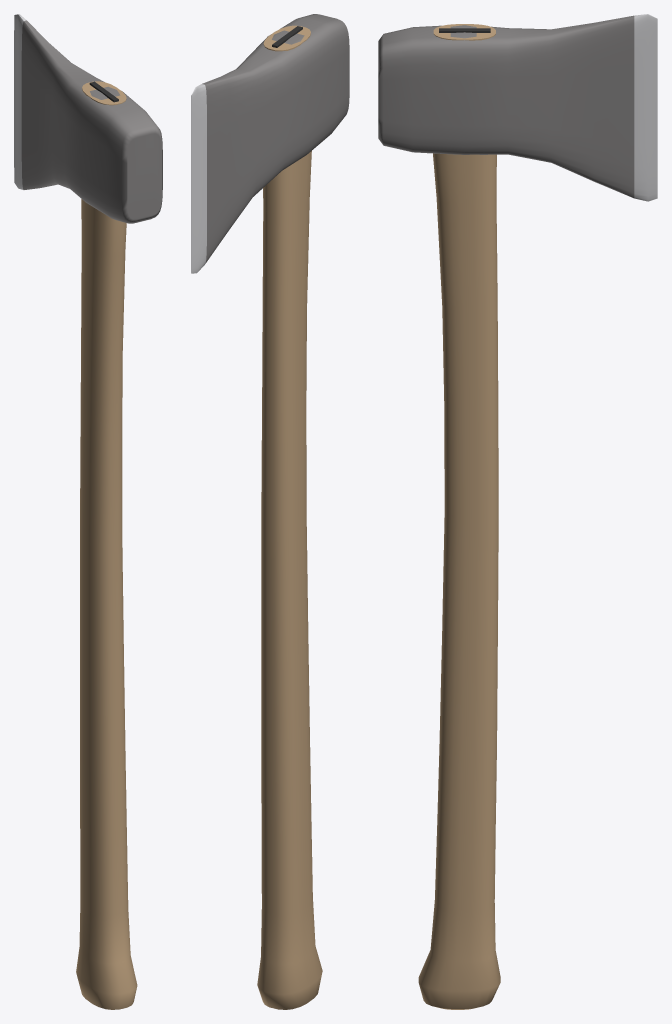
Rendered from axe.glb.
The picture shows the model from 3 angles, left to right: view 1: azimuth 30°, elevation 25°; view 2: azimuth 150°, elevation 25°; view 3: azimuth 270°, elevation 25°; orthographic projection. The views are drawn at different scales.
Visible parts, largest first — view 1: Axe; view 2: Axe; view 3: Axe.
Part boxes in pixels (x1,y1,x2,y2): Axe: (14, 14, 162, 1009); Axe: (191, 14, 349, 1009); Axe: (378, 14, 657, 1009).
Size of the model in its own units: 0.0335 by 0.6311 by 0.1615.
